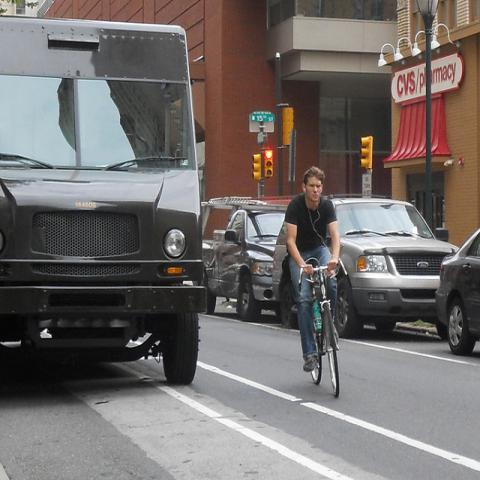car: (326, 194, 458, 338), (200, 196, 288, 322), (436, 226, 480, 356)
truck: (0, 16, 207, 384), (274, 198, 464, 346), (201, 200, 294, 318)
